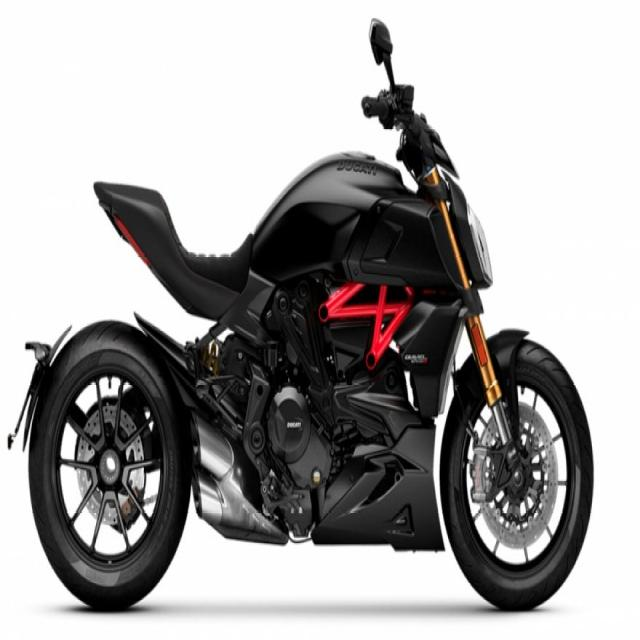Bike: (12, 21, 595, 613)
